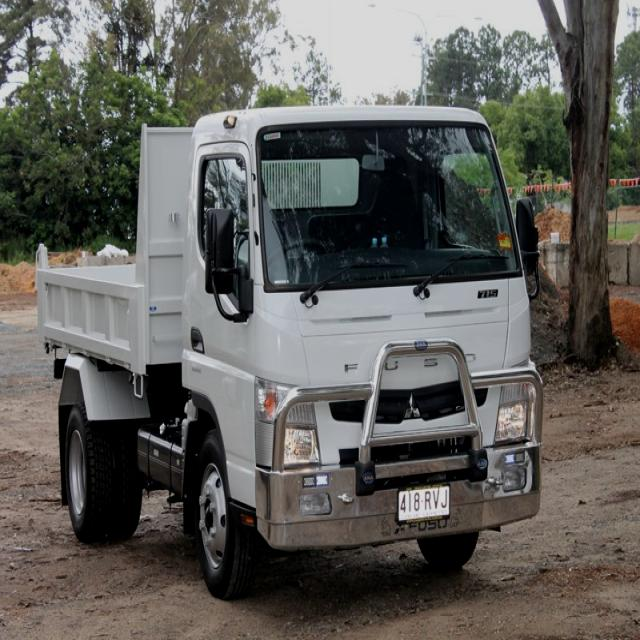truck: (35, 101, 546, 599)
